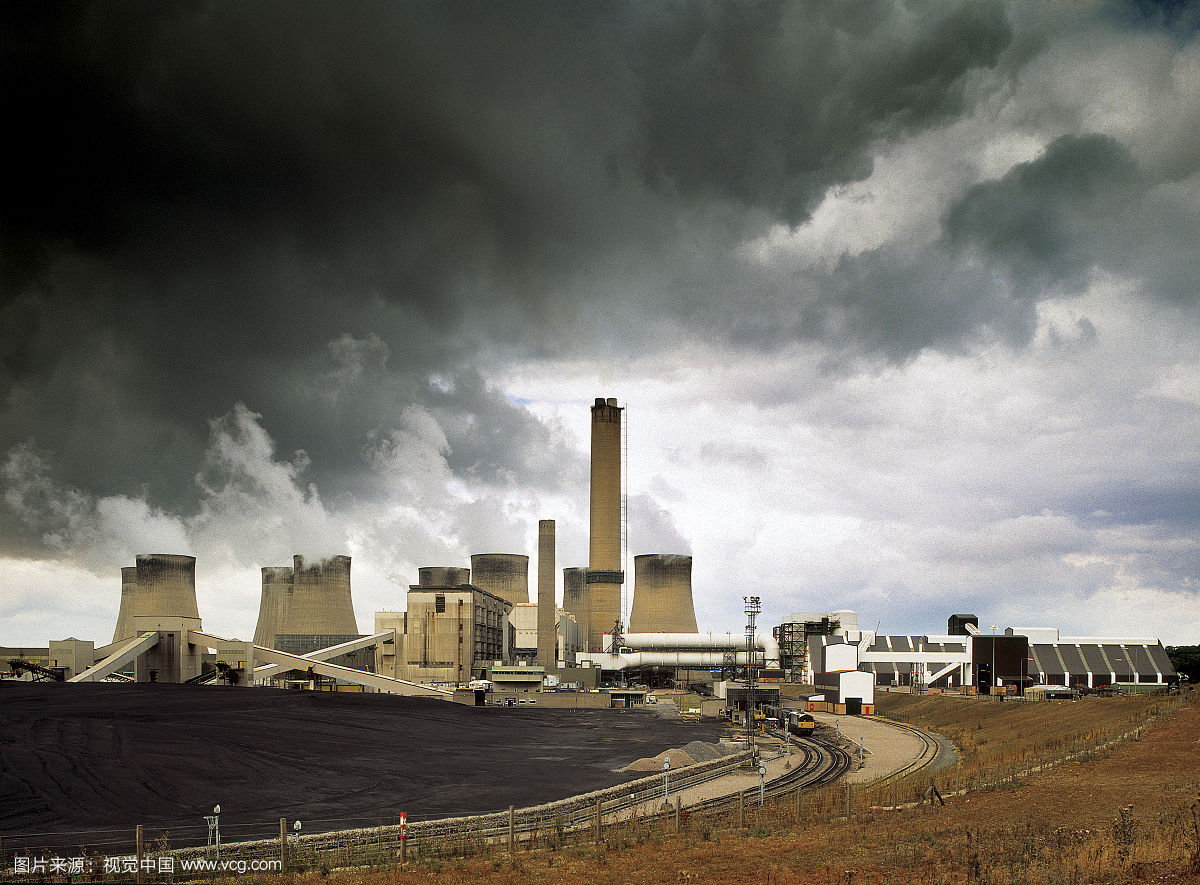dust: (345, 447, 540, 579), (198, 433, 363, 578), (45, 462, 215, 575), (619, 481, 715, 567)
